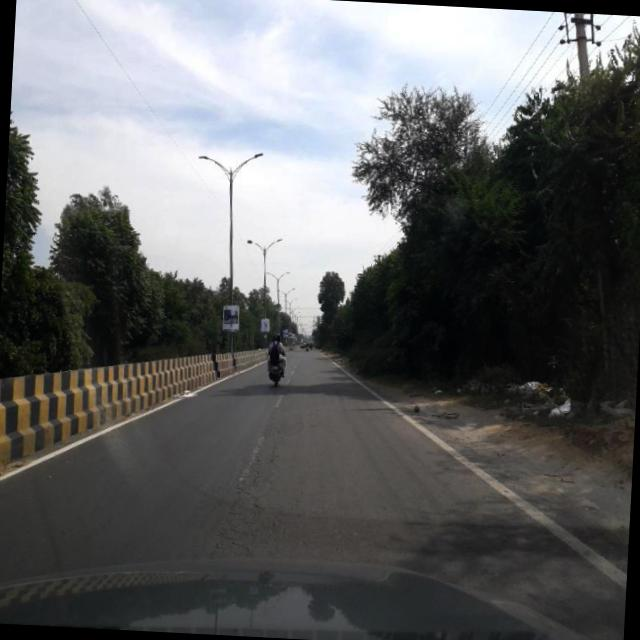crack: (213, 435, 286, 556)
